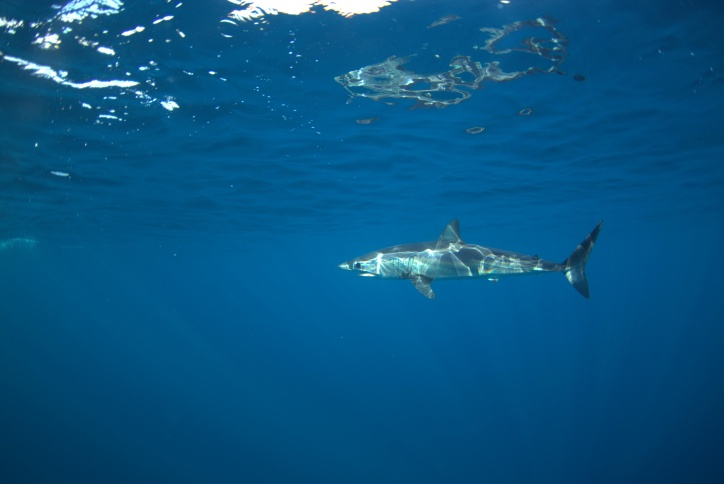Mako: (319, 215, 608, 305)
